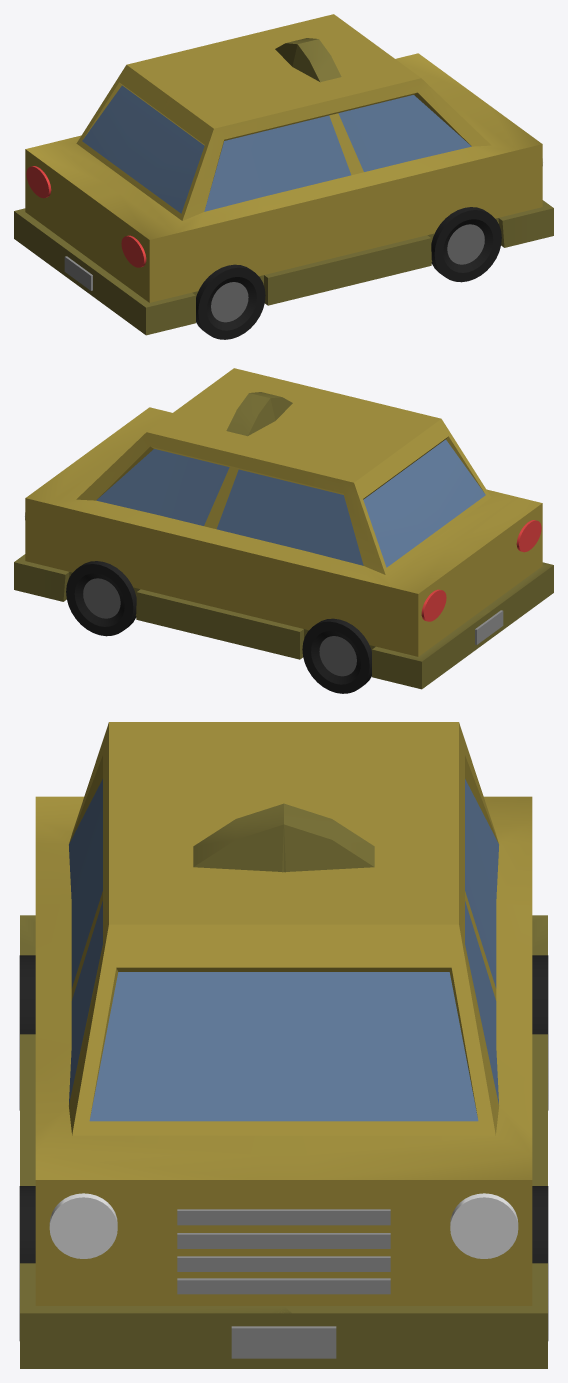
File: Taxi.fbx
3 views of the same model, one above another, from view 1: azimuth 30°, elevation 25°; view 2: azimuth 150°, elevation 25°; view 3: azimuth 270°, elevation 25° (orthographic). The views are drawn at different scales.
Parts seen in each view (by area): view 1: Cube, Cylinder; view 2: Cube, Cylinder; view 3: Cube, Cylinder.
Boxes of the visible parts, <box> form: Cube: <box>14,14,553,335</box>; Cylinder: <box>196,207,501,339</box>; Cube: <box>14,368,553,689</box>; Cylinder: <box>66,561,371,693</box>; Cube: <box>20,722,547,1368</box>; Cylinder: <box>19,955,548,1340</box>.
Bounding box in the file's own units: 1817 × 902 × 1009.
